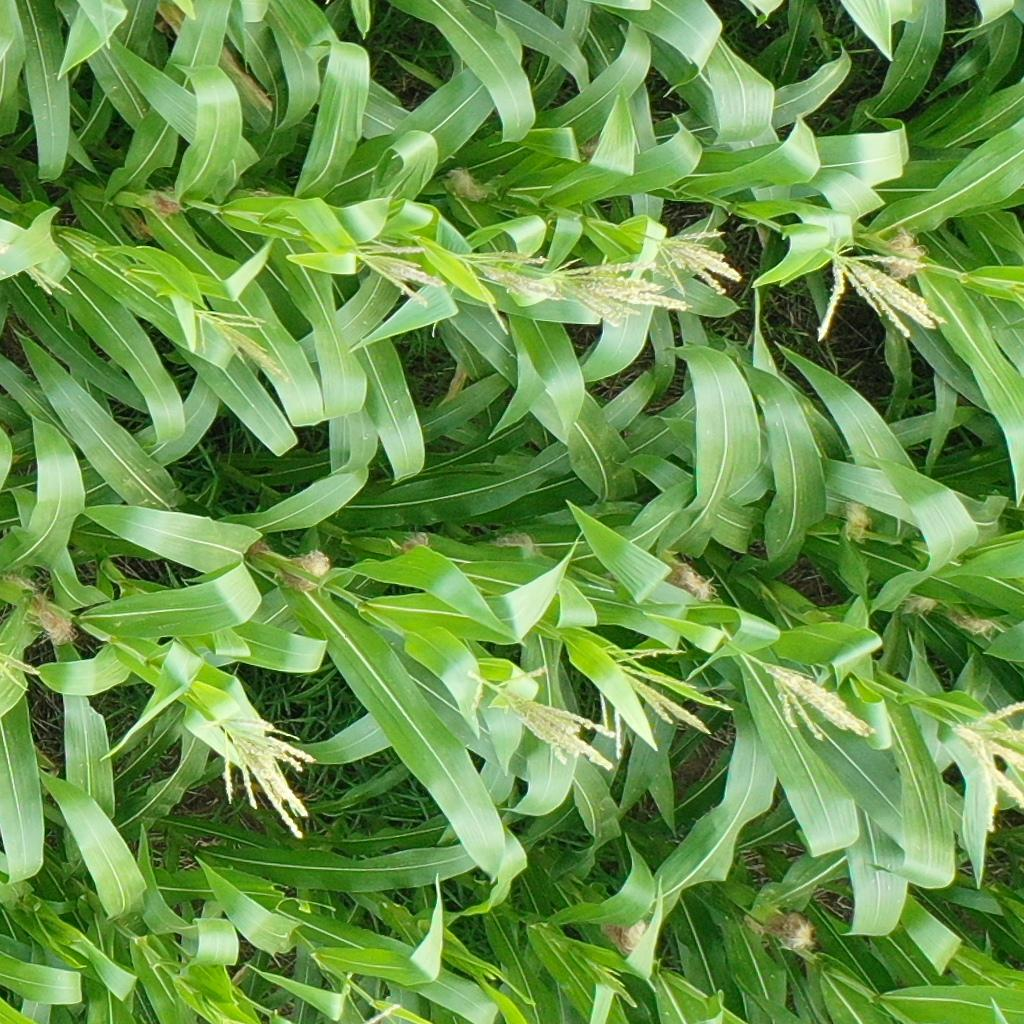Tassel: (593, 644, 734, 757), (471, 667, 615, 773), (814, 238, 950, 346), (216, 717, 318, 843), (762, 658, 878, 746), (550, 257, 689, 329), (952, 698, 1024, 835), (460, 247, 566, 339), (190, 309, 289, 382), (353, 236, 448, 308), (655, 227, 741, 299), (588, 956, 639, 1007), (19, 262, 73, 297), (1, 647, 40, 695), (1009, 279, 1024, 303)
